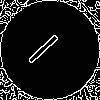I: (25, 25, 68, 67)
